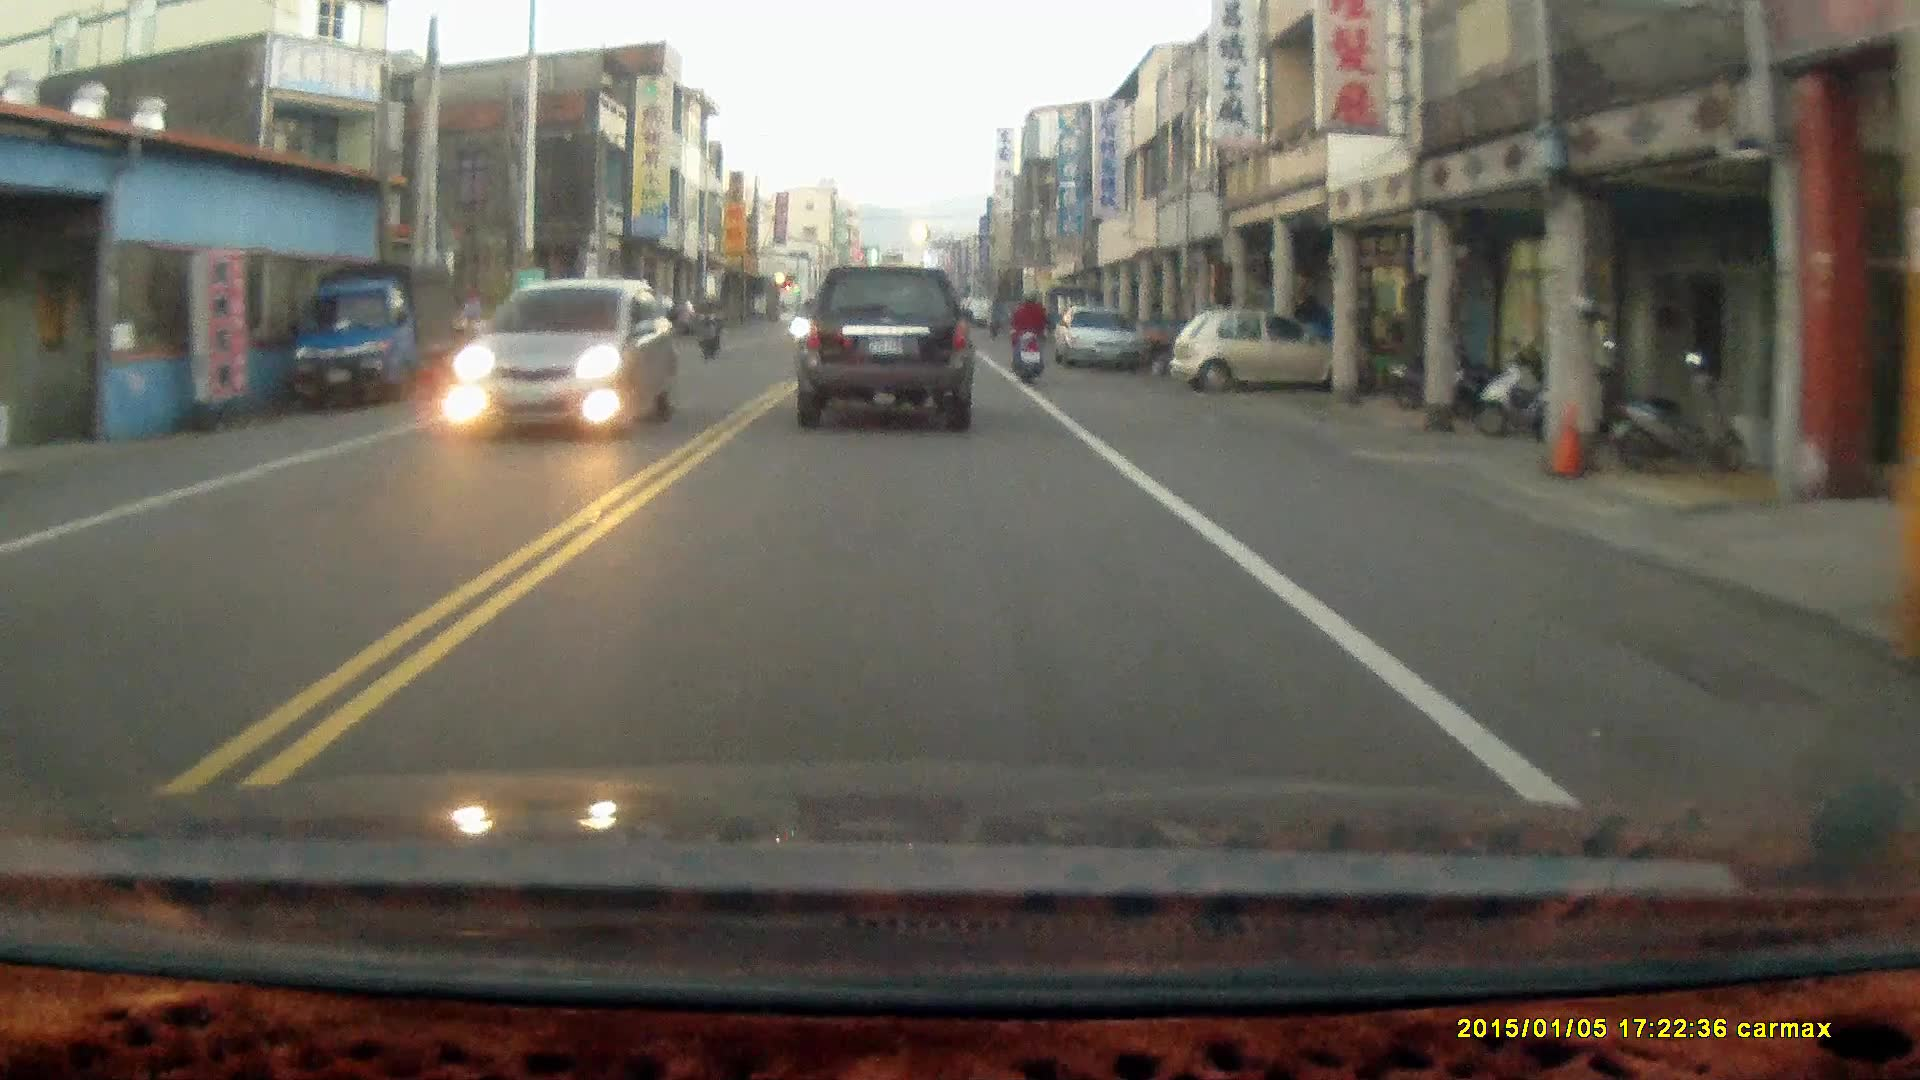rider: (1009, 290, 1047, 386), (694, 297, 725, 364)
vehicle: (450, 278, 678, 439), (794, 265, 976, 438), (285, 261, 460, 411), (1175, 308, 1355, 398), (1055, 312, 1144, 372)
